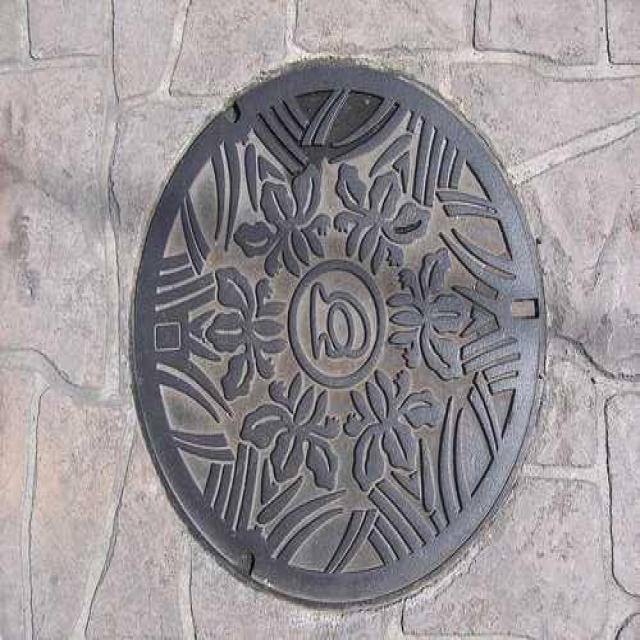manhole: (128, 58, 547, 609)
